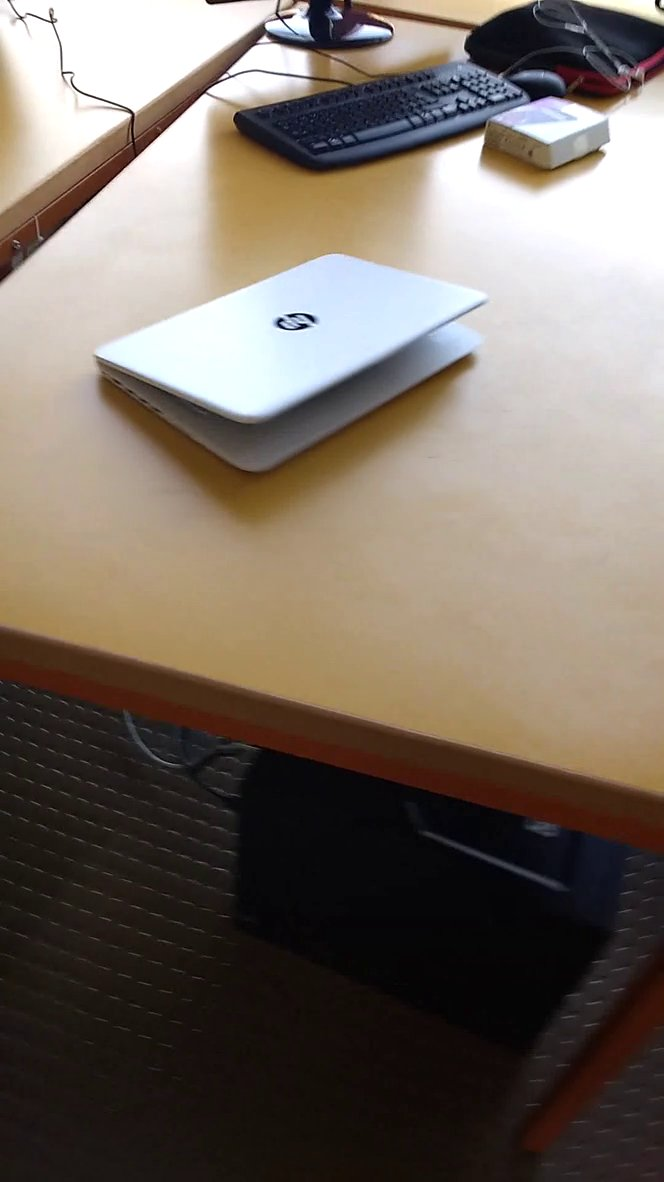laptop: (87, 246, 512, 500)
